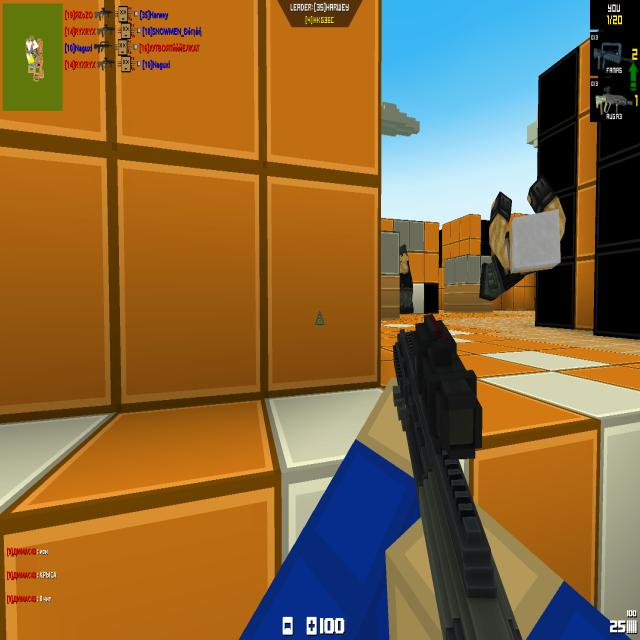enemy: (399, 243, 414, 315)
